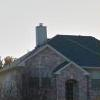Chimney: (32, 17, 53, 47)
